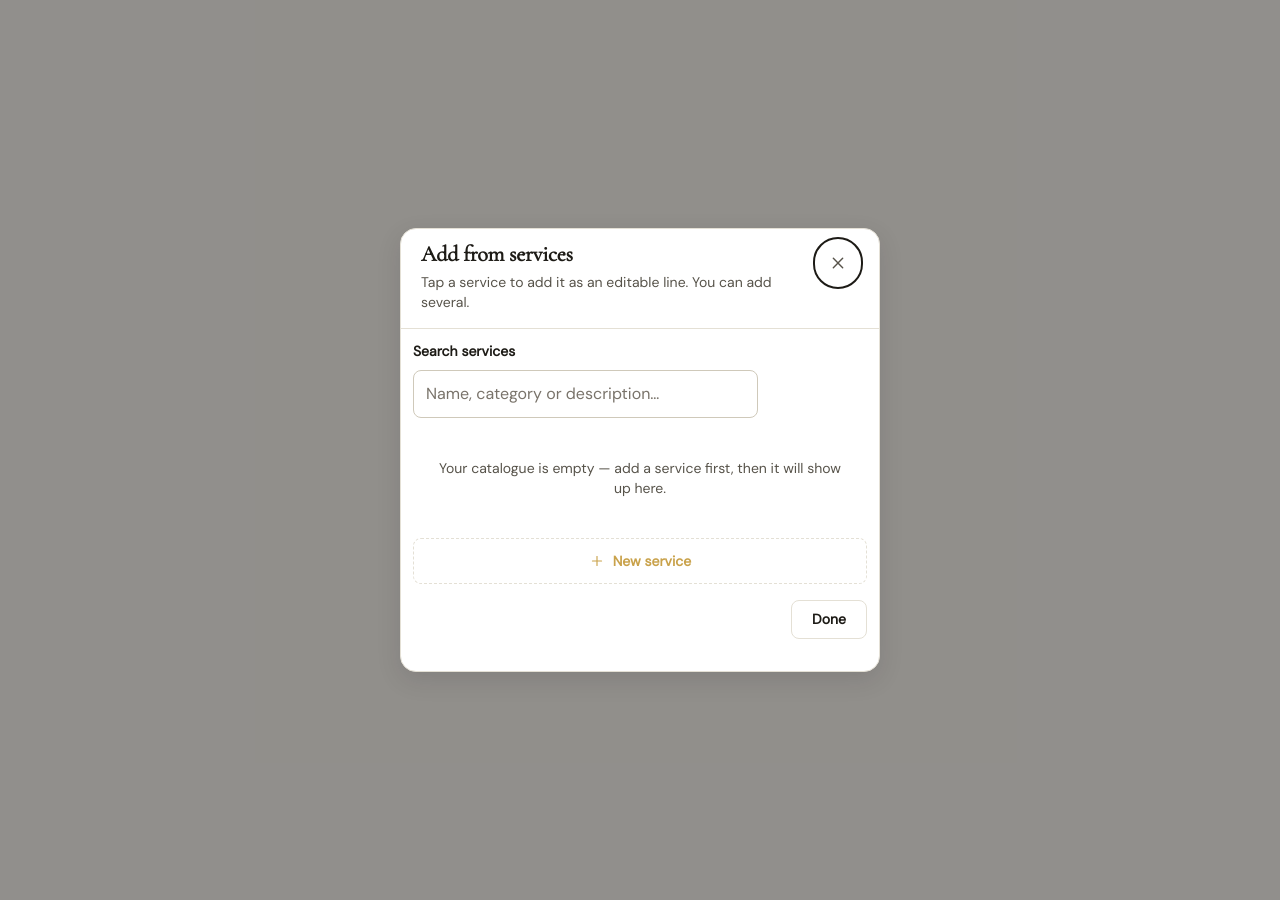
Test: ServicePicker — empty catalogue › drops the create shortcut once a search is running — the services may exist
The width and height of the screenshot is (1280, 900).
Type "sofa" into the field labelled "Search services" at (585, 394), box [413, 370, 758, 418]
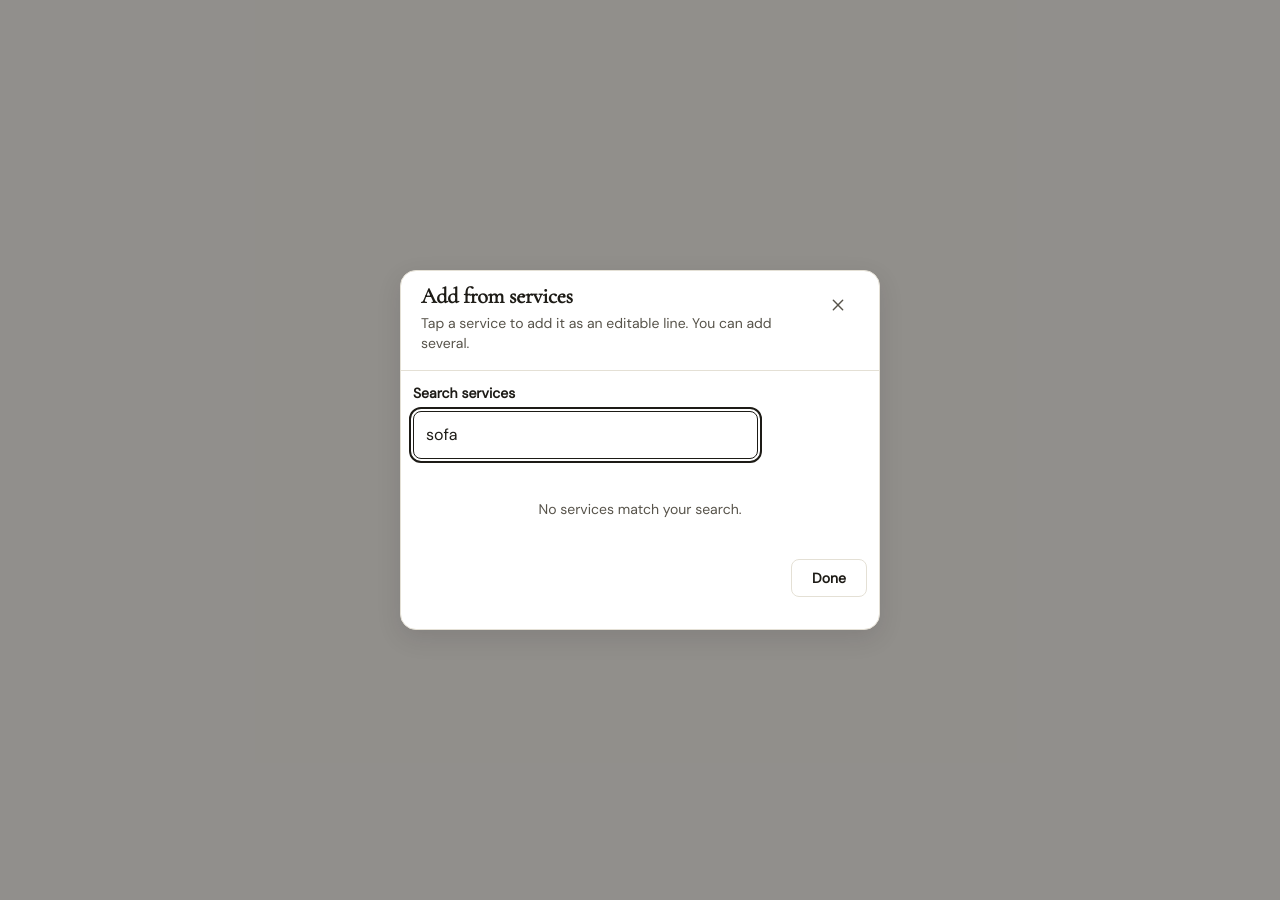
Expected: the text "No services match your search." is shown, [538, 500, 742, 518]
Expected: the link "New service" is gone
